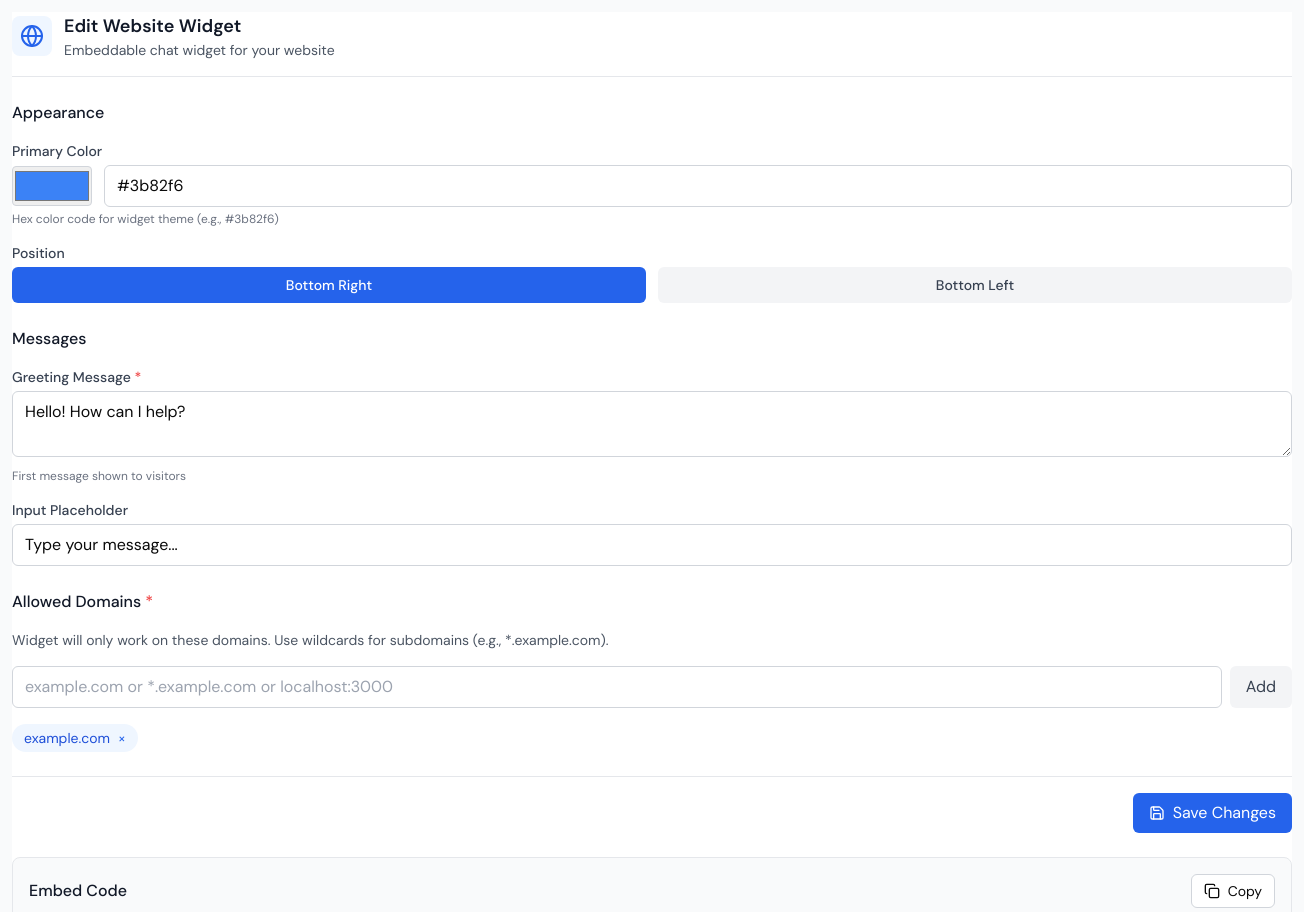
Test: WidgetSetup - Embed Code › shows success message when Copy button is clicked
The width and height of the screenshot is (1304, 912).
// Click copy button
Click the button "Copy".
click(1233, 891)  # box [1191,874,1275,908]
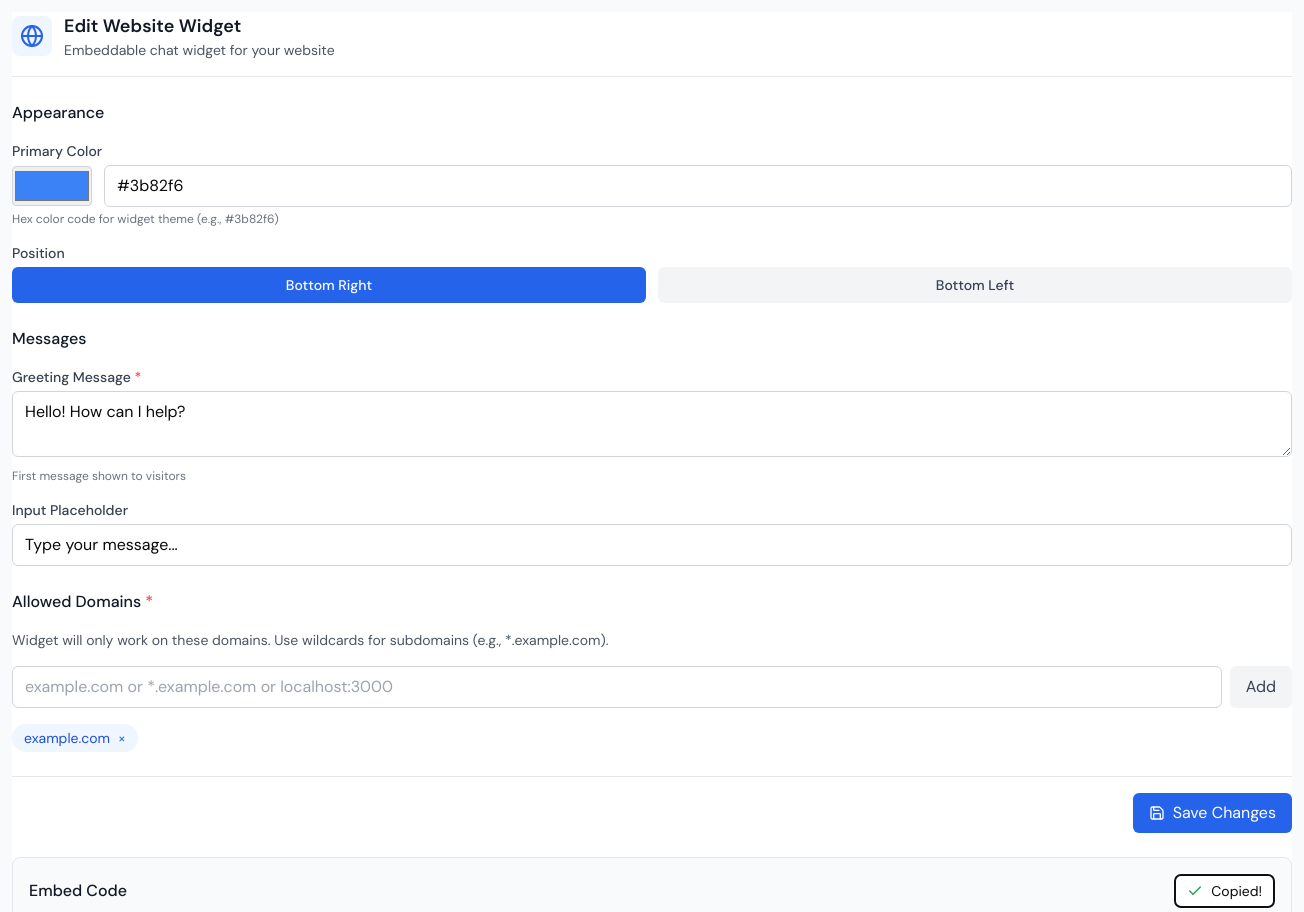
Result: the button "Copied!" is shown at [1174,874,1275,908]
